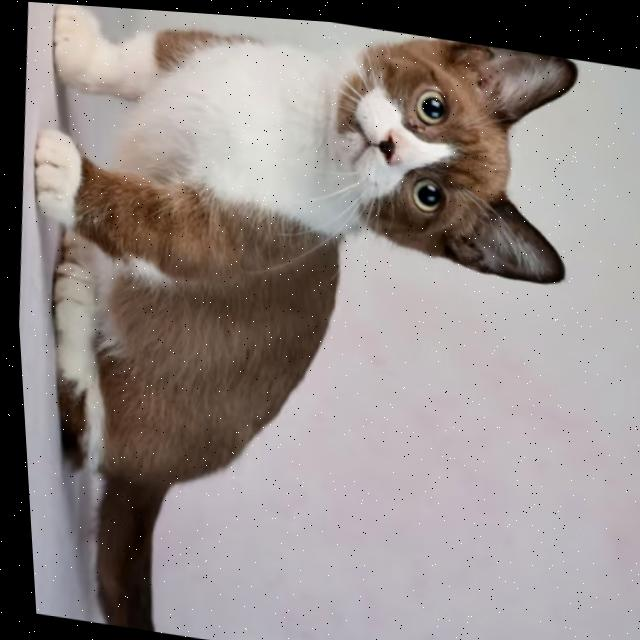Munchkin: (0, 0, 612, 640)
